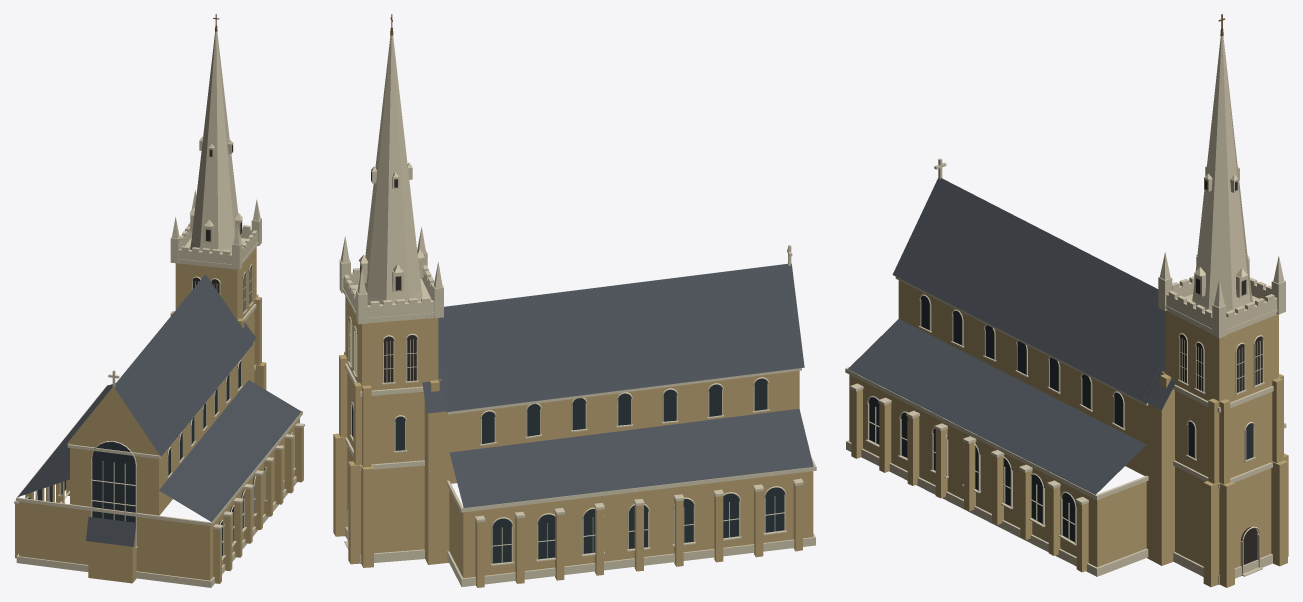
Rendered from st_james_sussex_gardens.glb.
3 renders of one model, left to right at view 1: azimuth 30°, elevation 25°; view 2: azimuth 150°, elevation 25°; view 3: azimuth 270°, elevation 25°, orthographic. The views are drawn at different scales.
Size of the model in its own units: 41.44 by 53.9 by 39.69.
